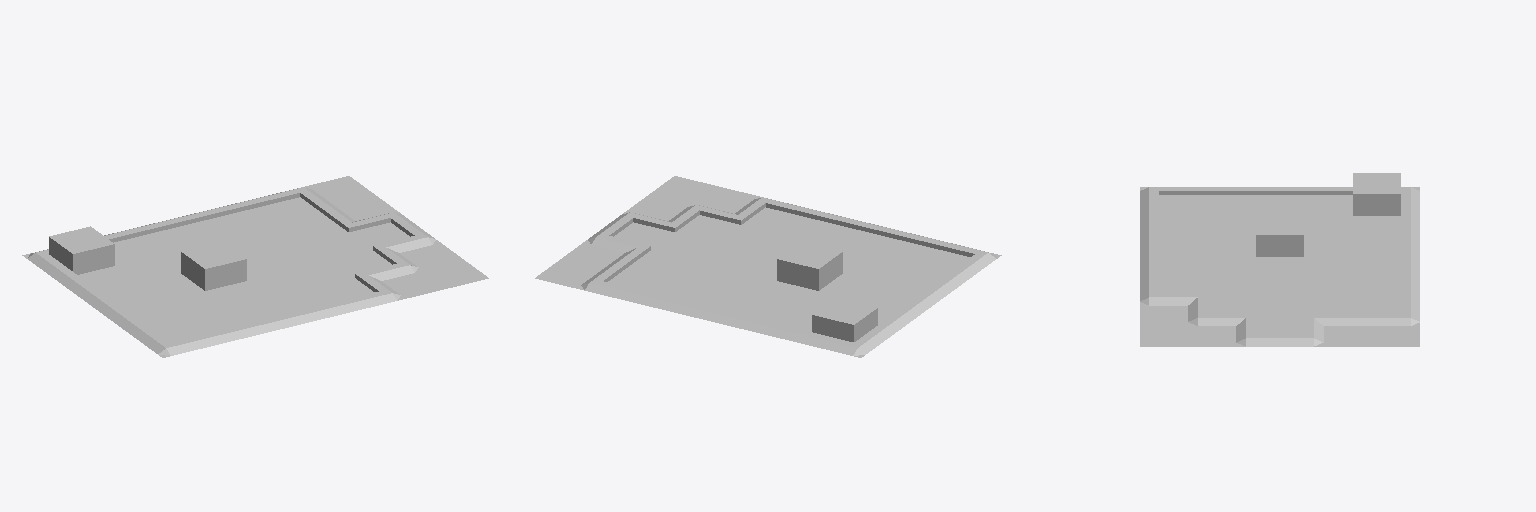
File: puzzle.obj
3 renders of one model, left to right at view 1: azimuth 30°, elevation 25°; view 2: azimuth 150°, elevation 25°; view 3: azimuth 270°, elevation 25°, orthographic.
Parts seen in each view (by area): view 1: Cube.001_Cube.003; view 2: Cube.001_Cube.003; view 3: Cube.001_Cube.003.
Part boxes in pixels (x1,y1,x2,y2): Cube.001_Cube.003: (22, 176, 488, 357); Cube.001_Cube.003: (535, 176, 1001, 357); Cube.001_Cube.003: (1140, 173, 1419, 346).
Bounding box in the file's own units: 39 × 2.5 × 29.